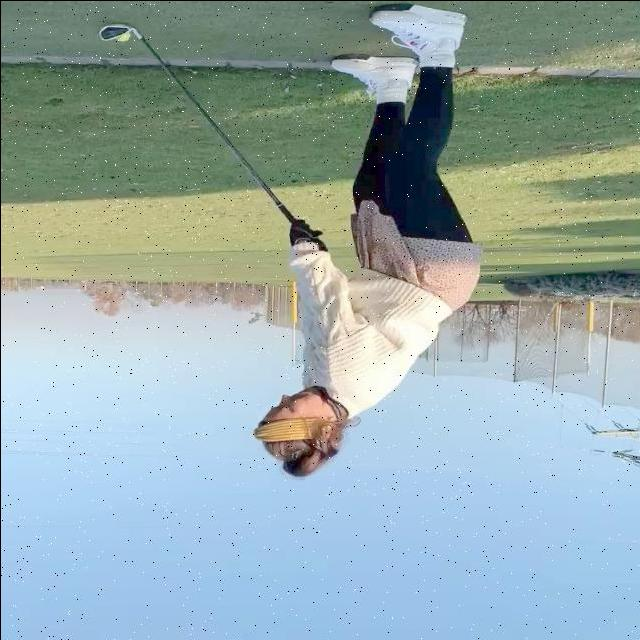ClubHandle: (97, 22, 293, 222)
ClubHead: (97, 22, 130, 40)
